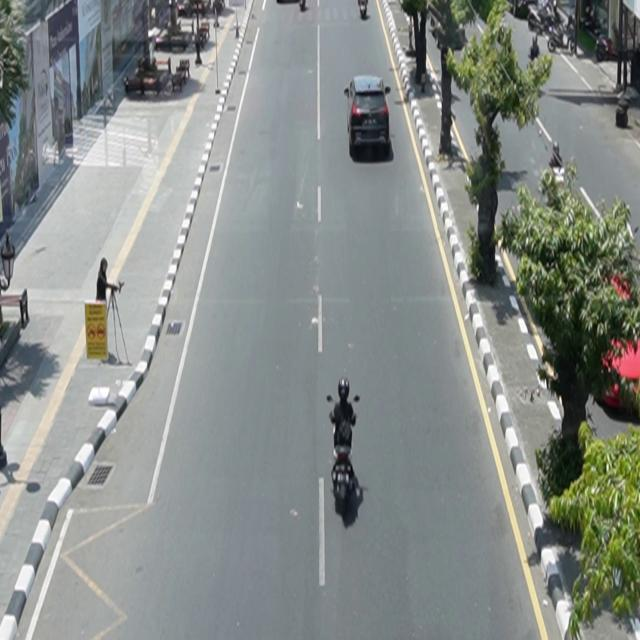car: (345, 75, 392, 156)
